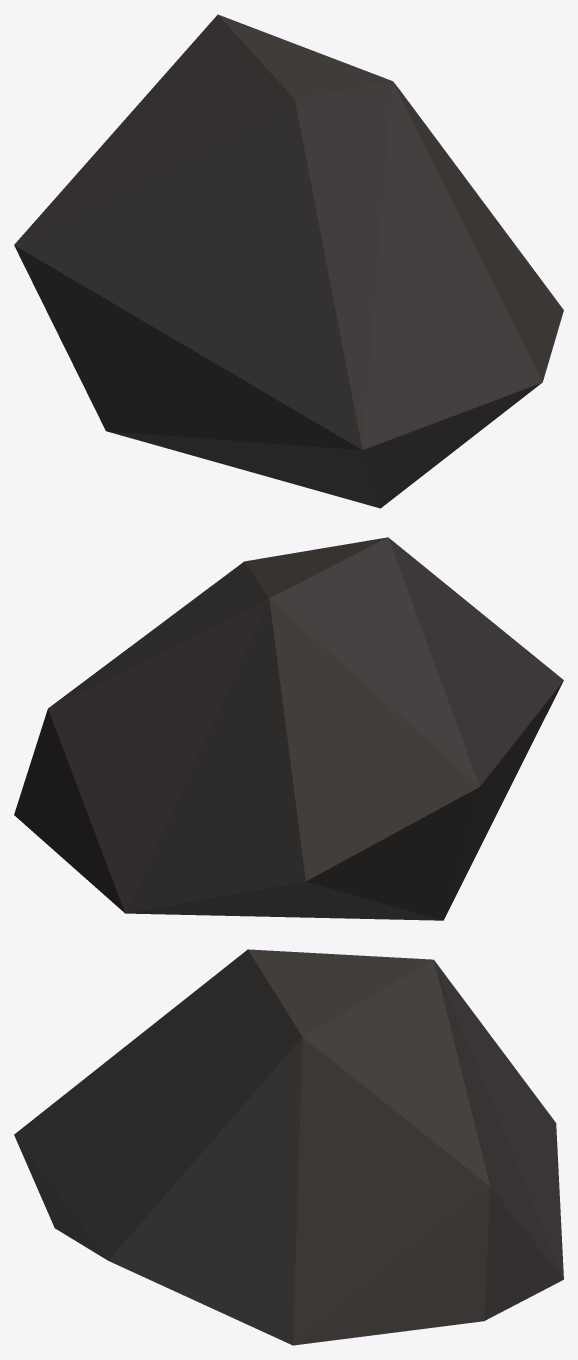
File: Rock_Single_7.fbx
The picture shows the model from 3 angles, top to bottom: view 1: azimuth 30°, elevation 25°; view 2: azimuth 150°, elevation 25°; view 3: azimuth 270°, elevation 25°; orthographic projection. The views are drawn at different scales.
Visible parts, largest first — view 1: Group16343; view 2: Group16343; view 3: Group16343.
Part boxes in pixels (box(x1,y1,x2,y2)): Group16343: box(14, 14, 563, 508); Group16343: box(14, 537, 563, 920); Group16343: box(14, 949, 563, 1345).
Bounding box in the file's own units: 0.7142 × 0.4916 × 0.7866.
